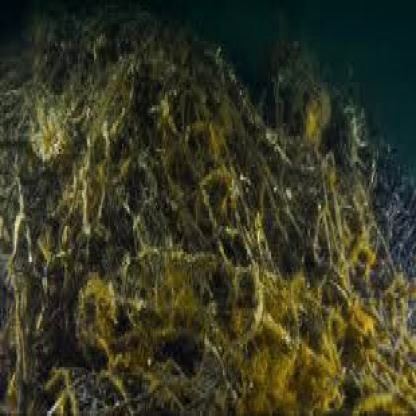net: (7, 26, 411, 411)
